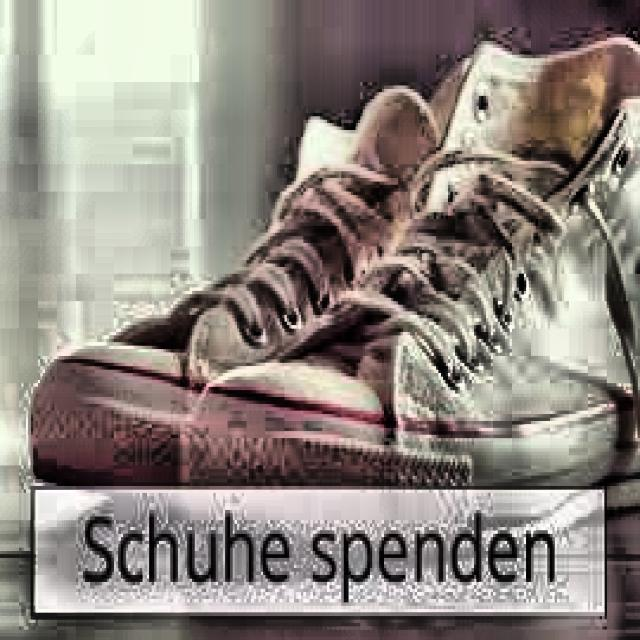shoes: (33, 17, 640, 510)
